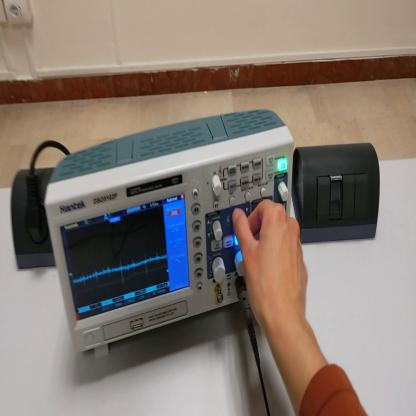hand: (233, 197, 311, 331)
oscilloscope: (46, 111, 295, 360)
socket: (12, 165, 56, 272)
